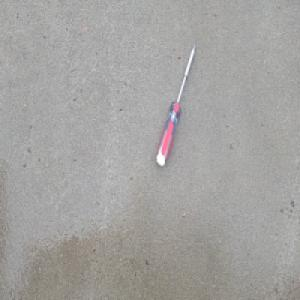Screwdriver: (155, 41, 197, 169)
